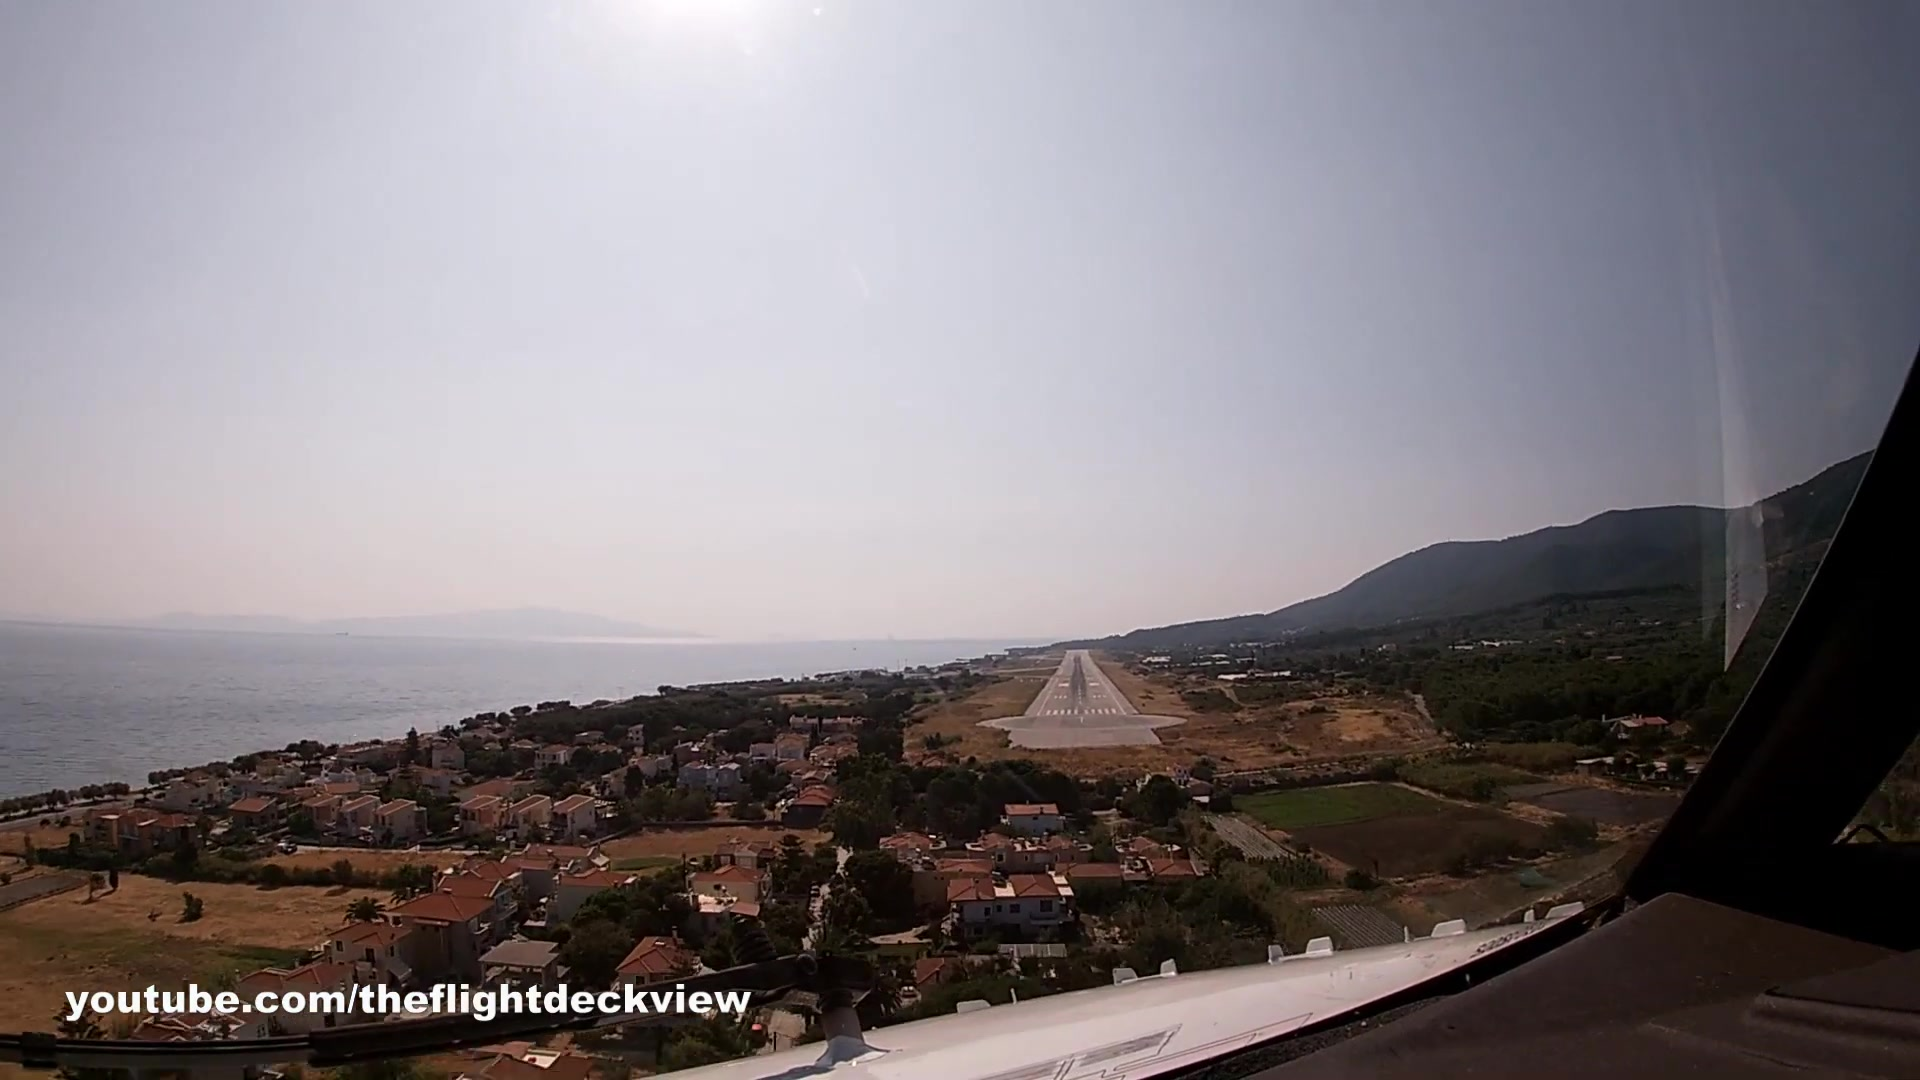entrance: (1036, 704, 1122, 717)
runway: (1023, 647, 1138, 724)
